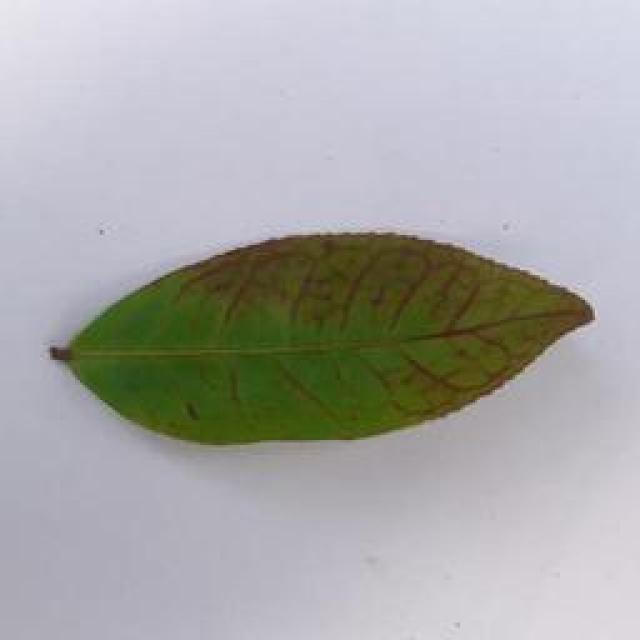Red Leaf Spot: (56, 220, 605, 451)
